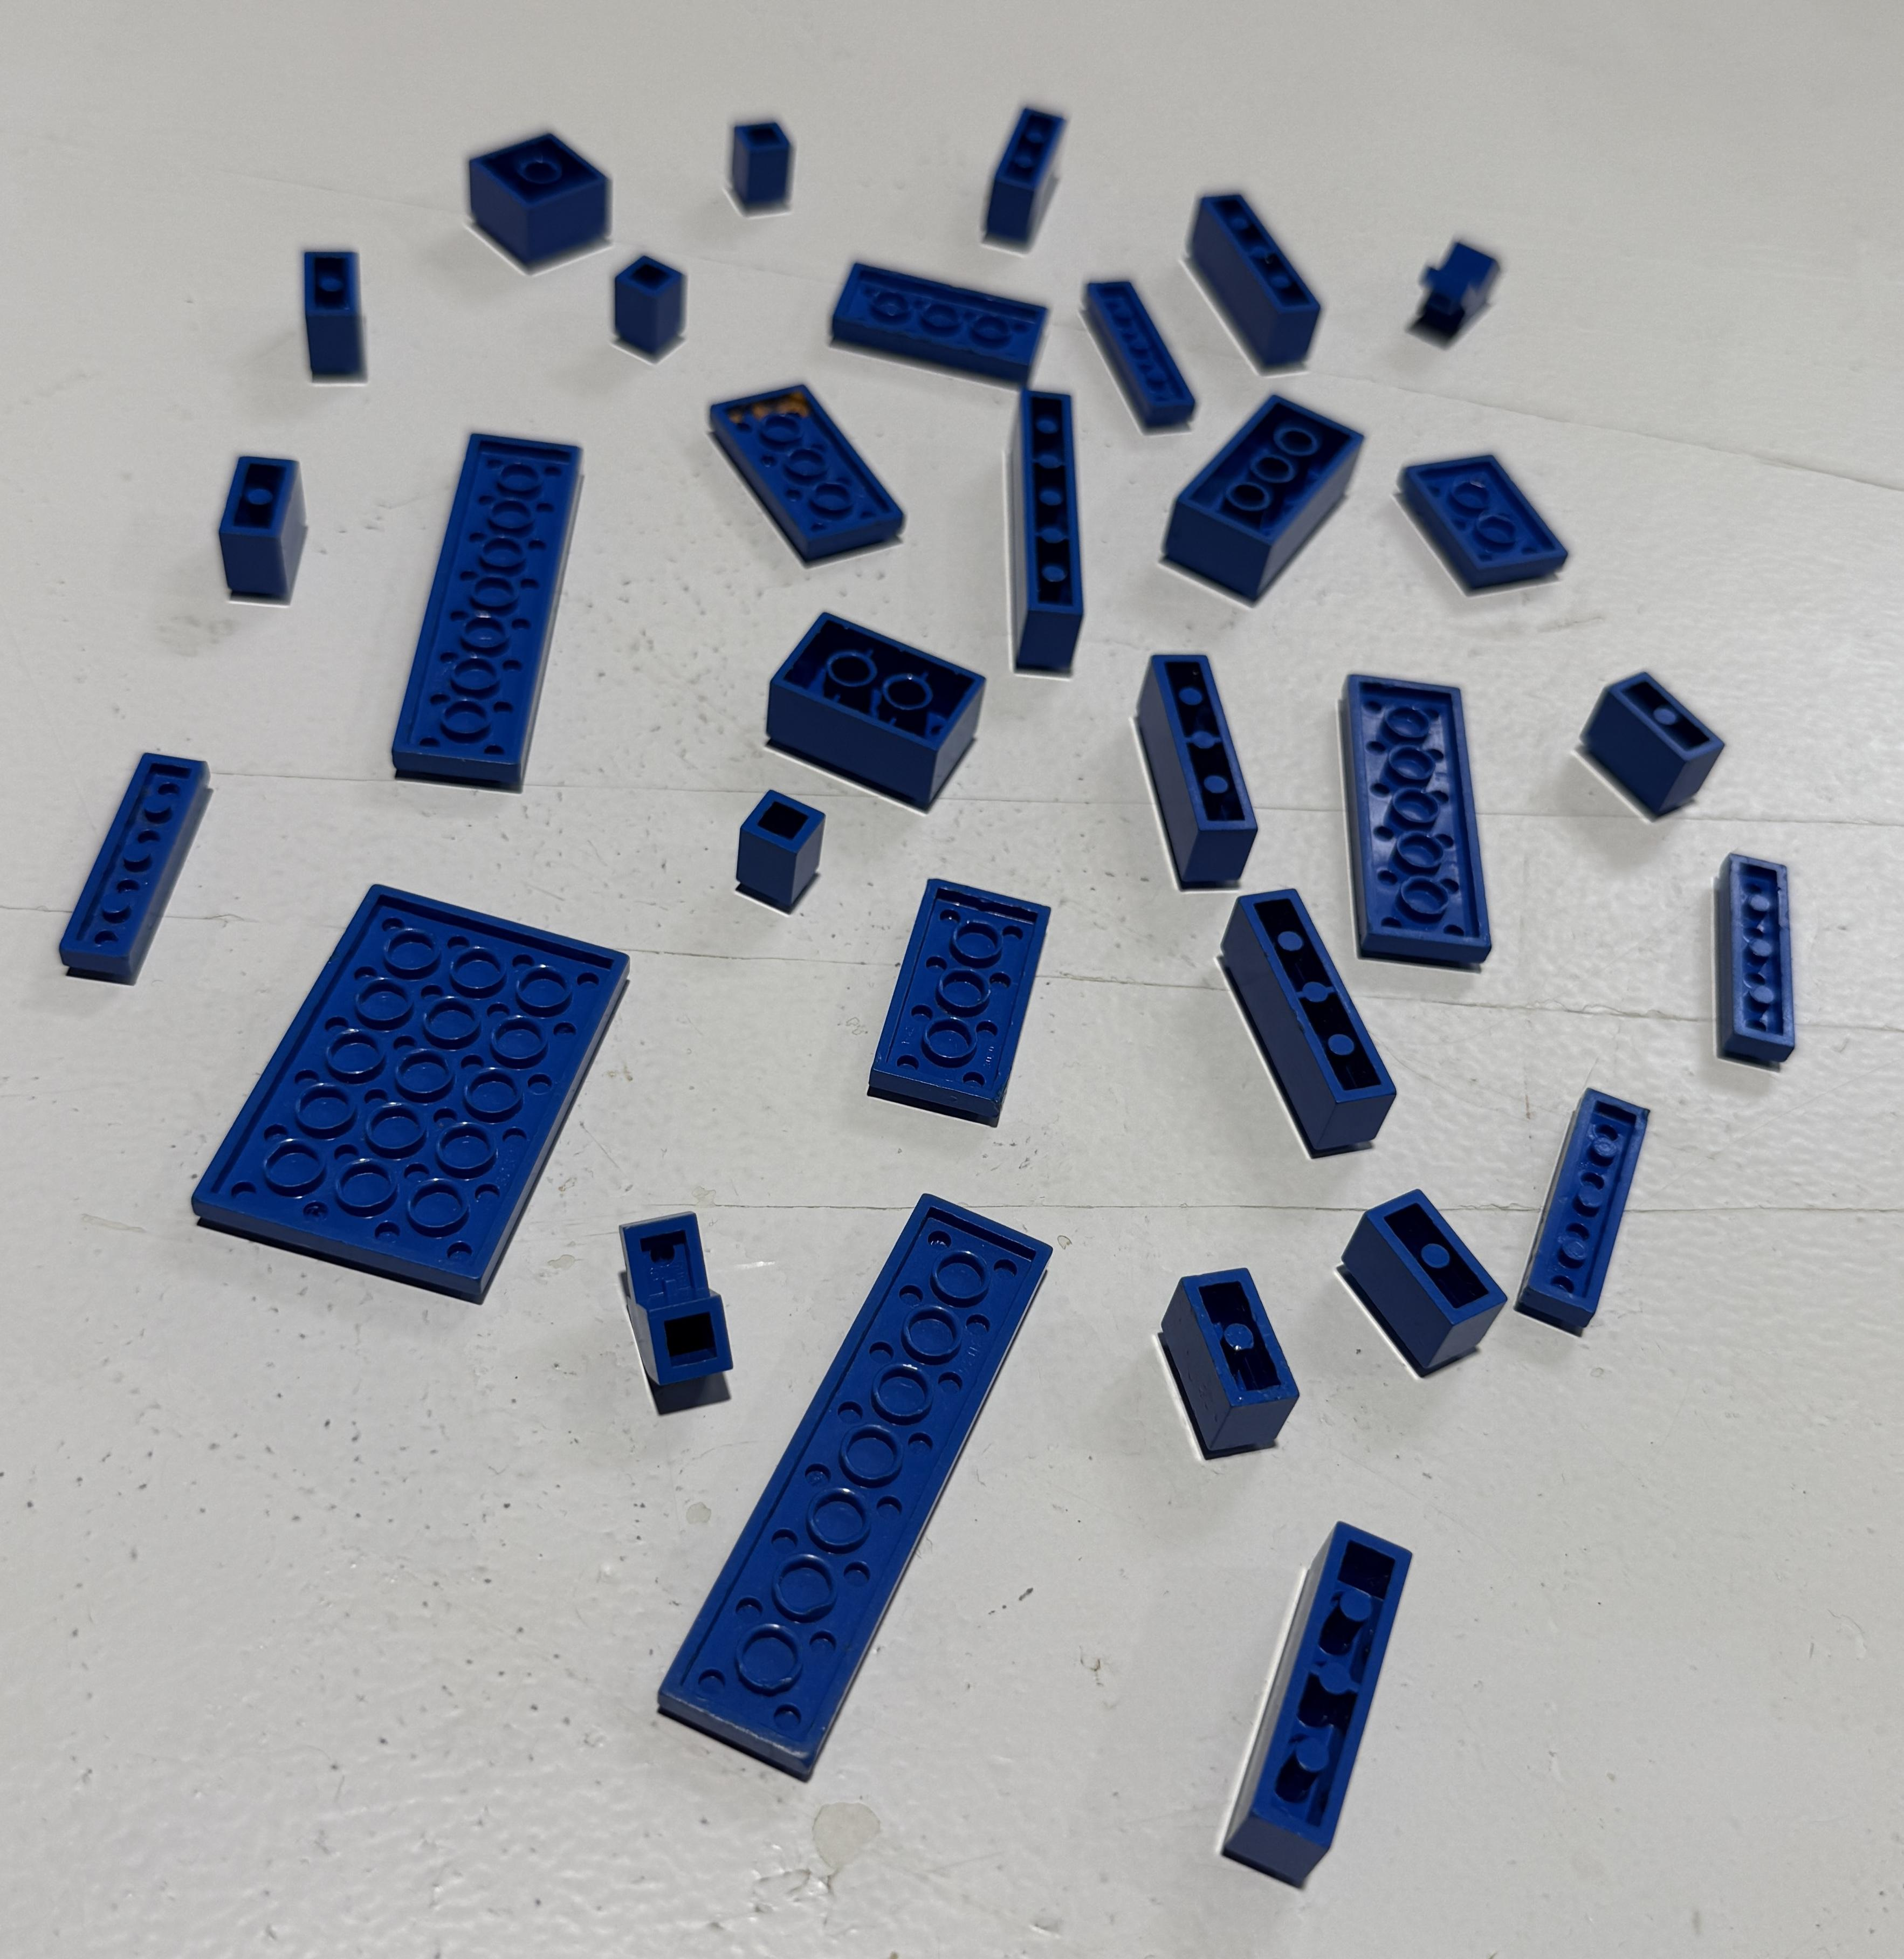brick_1x1: (596, 236, 729, 411), (720, 98, 837, 252), (727, 770, 836, 917)
brick_1x2: (1121, 1212, 1336, 1481), (1324, 1168, 1518, 1399), (1568, 647, 1743, 848), (178, 418, 334, 630), (285, 231, 381, 406)
brick_1x3: (927, 68, 1103, 275)
brick_1x4: (1173, 1504, 1439, 1924), (1199, 861, 1413, 1165), (1108, 624, 1275, 908), (1164, 159, 1343, 387)
brick_2x2: (437, 101, 633, 299)
brick_2x3: (740, 596, 1000, 820)
brick_2x4: (1150, 381, 1392, 614)
